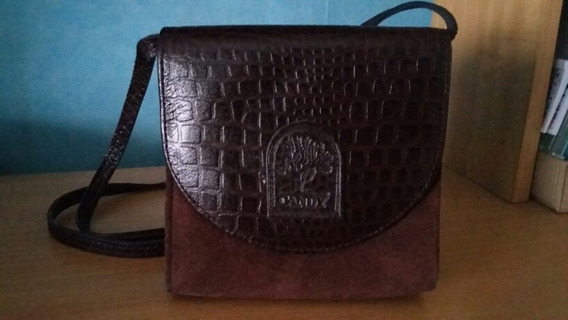cartera: (142, 3, 459, 303)
